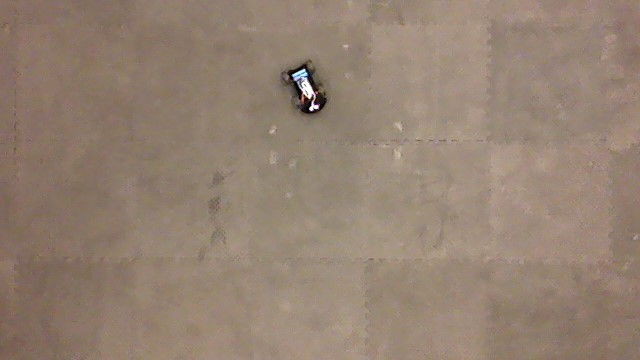Agent: (279, 58, 330, 116)
